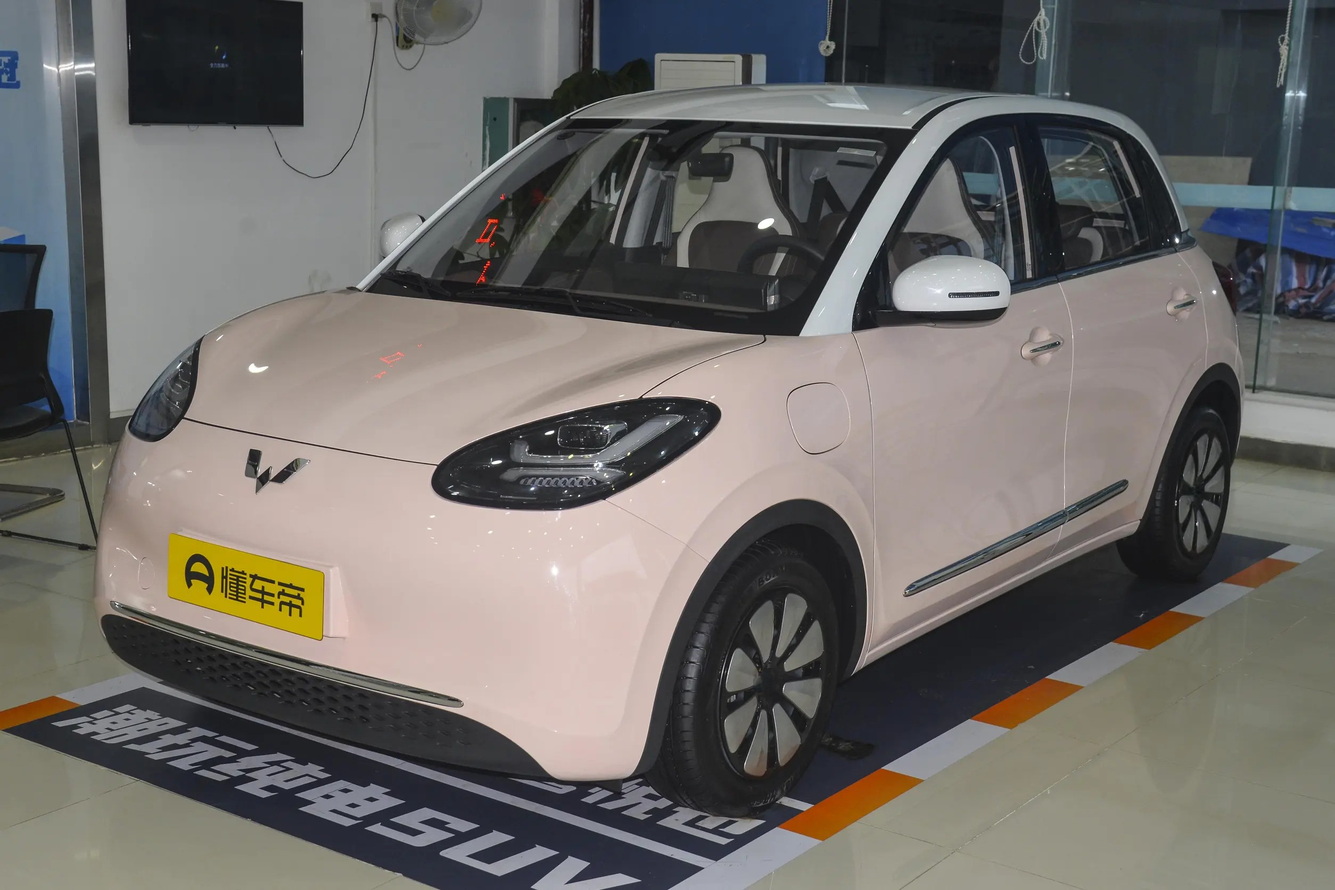SGMW: (245, 448, 310, 493)
